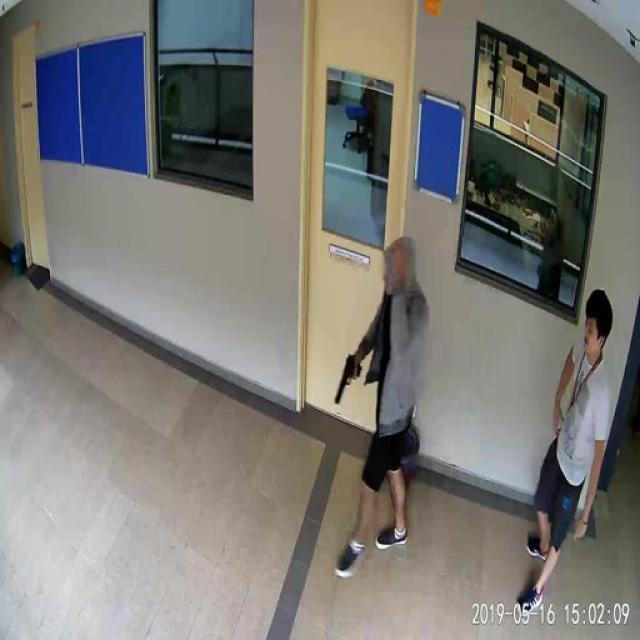weapon: (334, 353, 363, 406)
